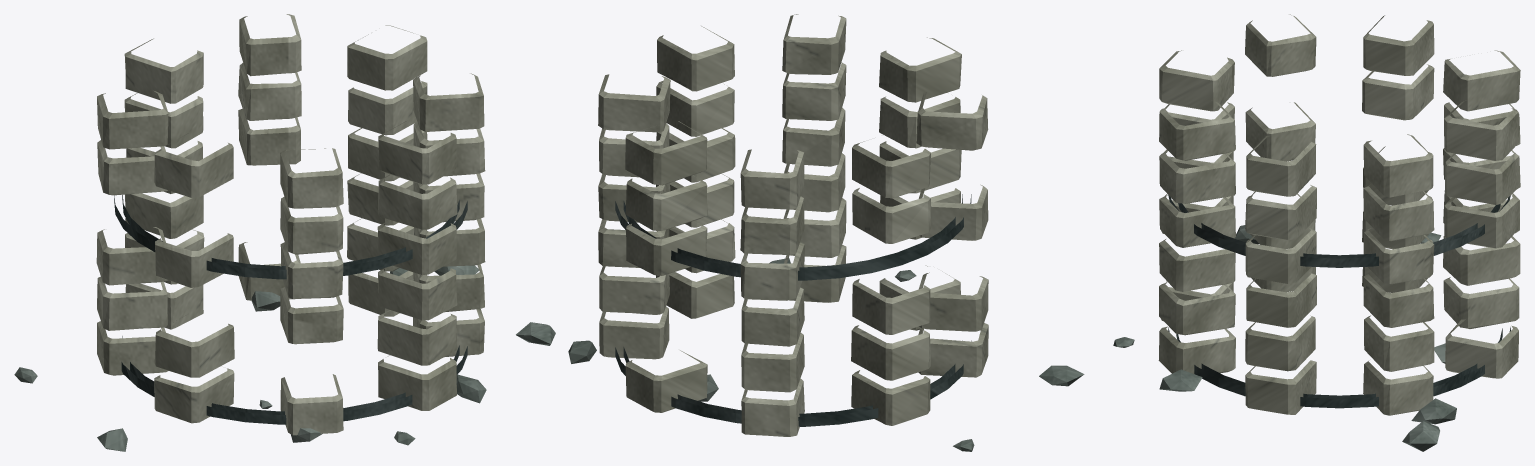
Rendered from 0413_ruined_tower_13.glb.
The picture shows the model from 3 angles, left to right: view 1: azimuth 30°, elevation 25°; view 2: azimuth 150°, elevation 25°; view 3: azimuth 270°, elevation 25°; orthographic projection. The views are drawn at different scales.
Visible parts, largest first — view 1: stone_light, stone_dark, stone; view 2: stone_light, stone_dark, stone; view 3: stone_light, stone_dark, stone.
Part boxes in pixels (x1,y1,x2,y2): stone_light: (96,14,485,435); stone_dark: (114,195,467,424); stone: (14,265,486,451); stone_light: (598,14,988,436); stone_dark: (615,194,971,426); stone: (516,258,1084,451); stone_light: (1158,14,1520,415); stone_dark: (1168,195,1510,408); stone: (1113,225,1456,451).
Bounding box in the file's own units: 4.51 × 2.51 × 3.55.
Materials: 3 (3 with a texture image).
